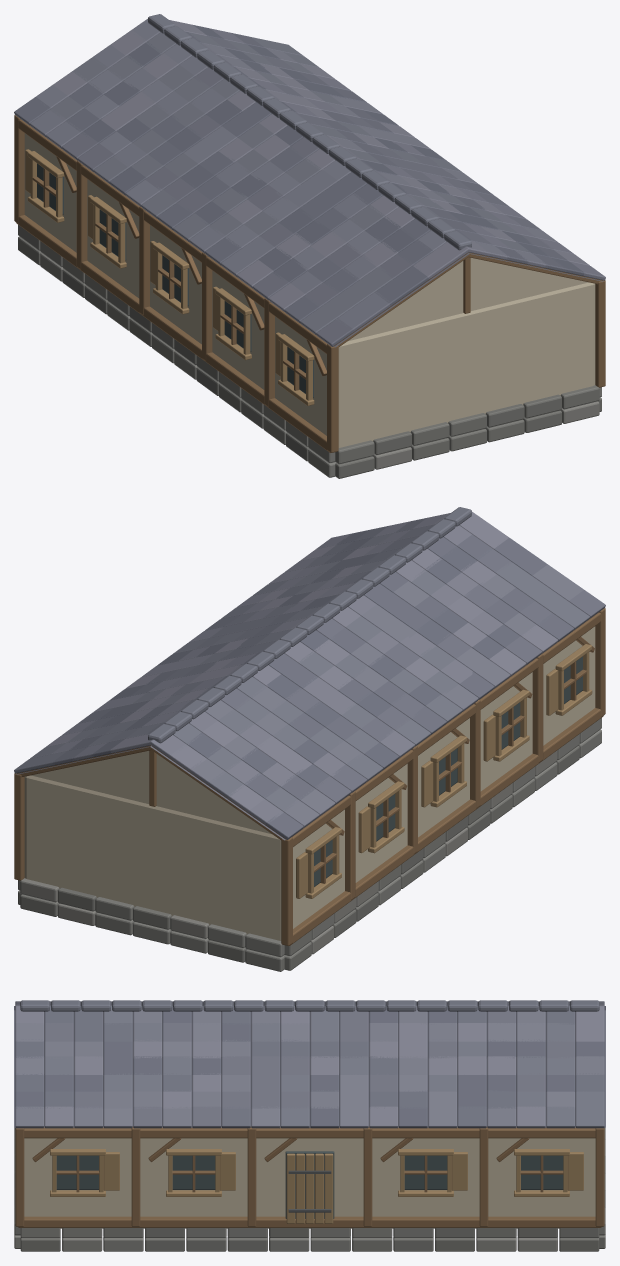
File: c01_house_3x6.glb
The picture shows the model from 3 angles, top to bottom: view 1: azimuth 30°, elevation 25°; view 2: azimuth 150°, elevation 25°; view 3: azimuth 270°, elevation 25°; orthographic projection. The views are drawn at different scales.
Parts seen in each view (by area): view 1: Roof, Walls; view 2: Roof, Walls; view 3: Roof, Walls.
Boxes of the visible parts, x1,y1,x2,y2 form: Roof: (14,14,605,347); Walls: (14,115,605,478); Roof: (14,507,605,840); Walls: (14,608,605,971); Roof: (14,1000,605,1128); Walls: (14,1127,605,1251).
Bounding box in the file's own units: 2.94 × 2 × 5.7.
Materials: 1 (1 with a texture image).
